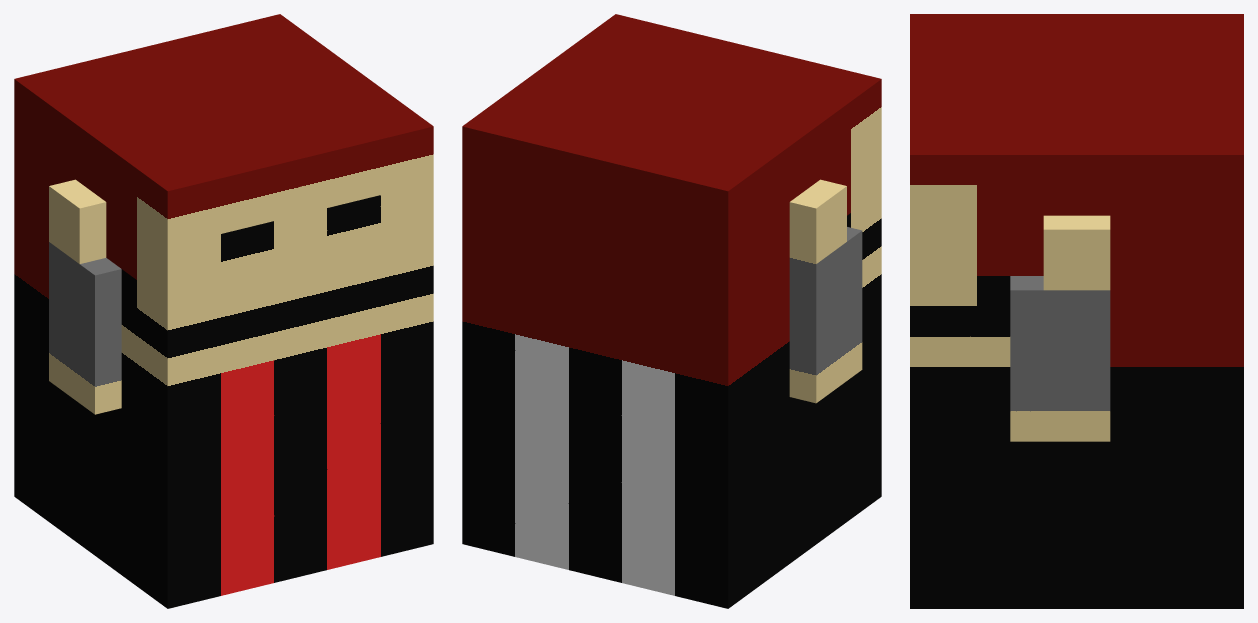
Rendered from Kurt.fbx.
3 views of the same model, side by side, from view 1: azimuth 30°, elevation 25°; view 2: azimuth 150°, elevation 25°; view 3: azimuth 270°, elevation 25° (orthographic). The views are drawn at different scales.
Parts seen in each view (by area): view 1: Kurt; view 2: Kurt; view 3: Kurt.
Boxes of the visible parts, x1,y1,x2,y2 form: Kurt: [14, 14, 433, 608]; Kurt: [462, 14, 881, 608]; Kurt: [910, 14, 1243, 608].
Size of the model in its own units: 12 by 15 by 10.
Materials: 1 (1 with a texture image).
